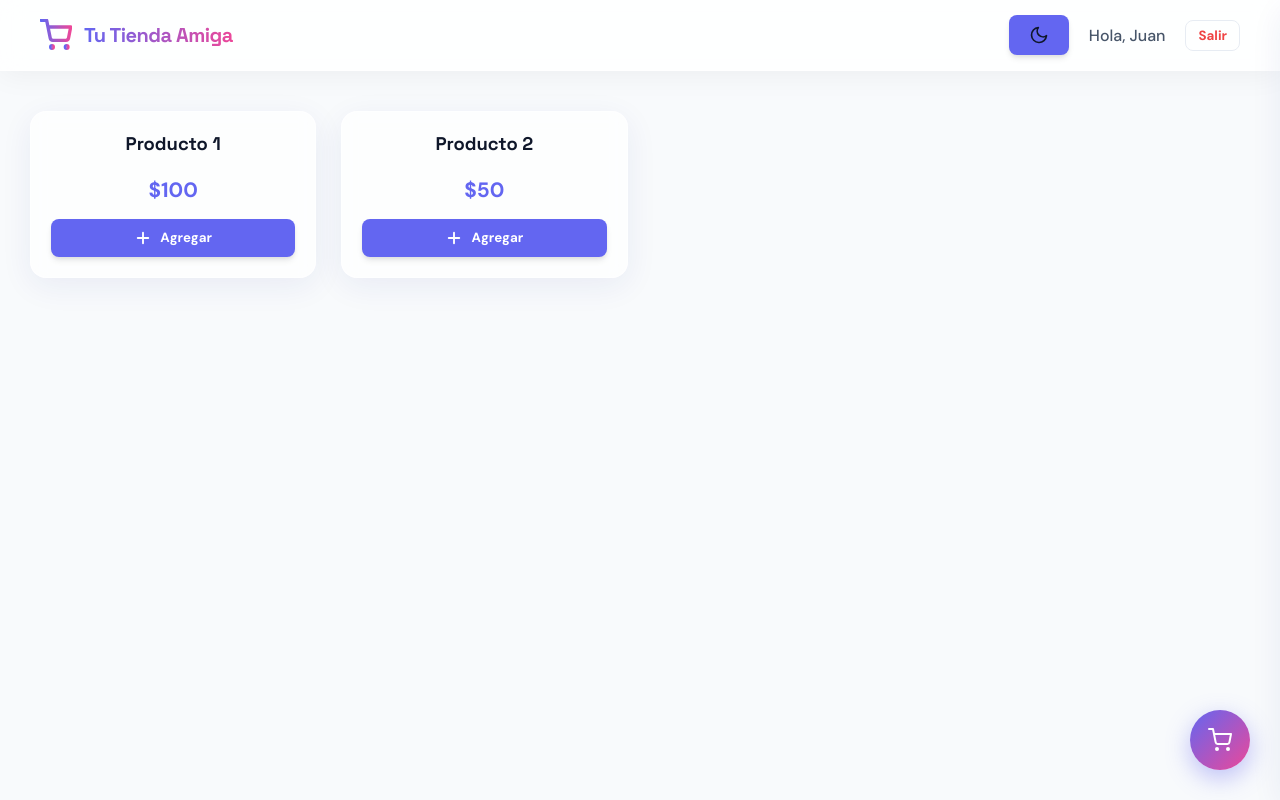
Test: App Component - Gestión del Carrito › Gestión del Carrito › ✓ HAPPY PATH: calcular total correctamente
The image size is (1280, 800).
Click the button "Agregar" below "100" at {"x": 173, "y": 238}, box [51,219,295,257]
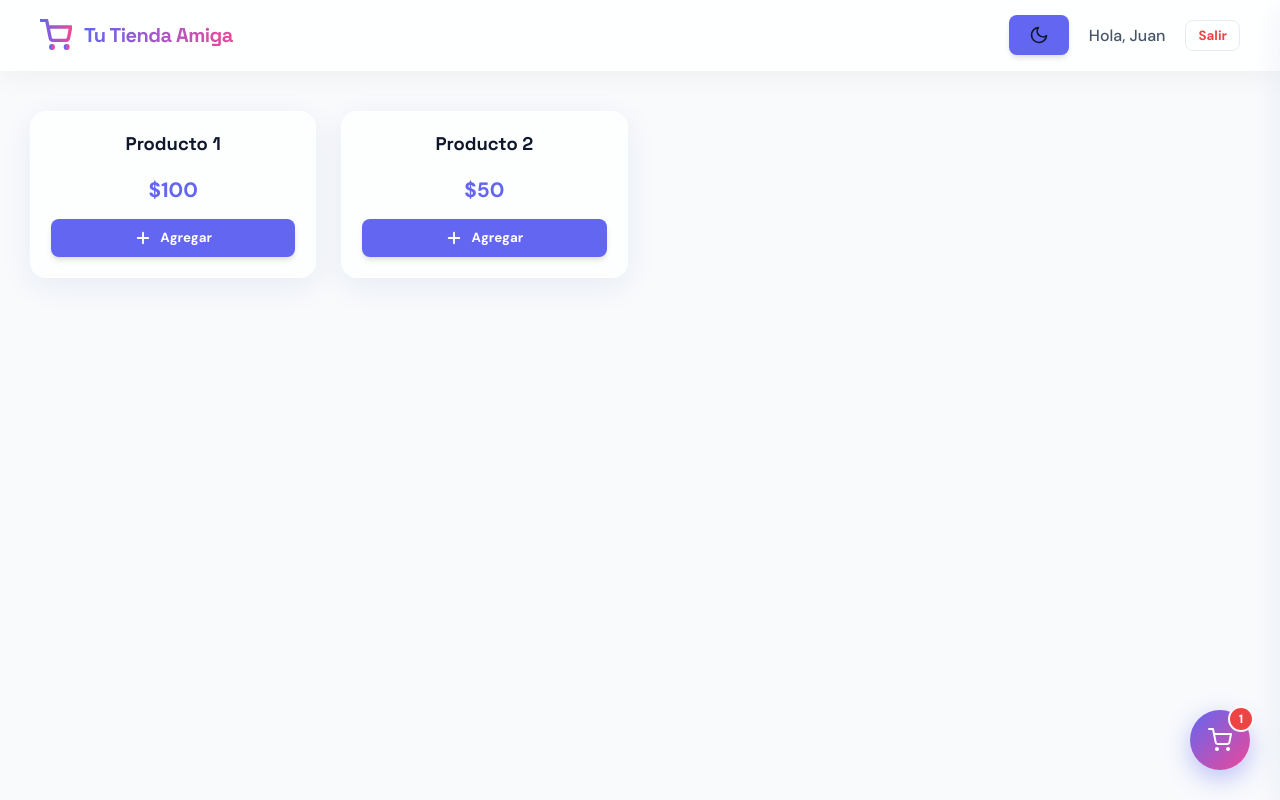
Click the button "Agregar" below "50" at {"x": 484, "y": 238}, box [362,219,607,257]
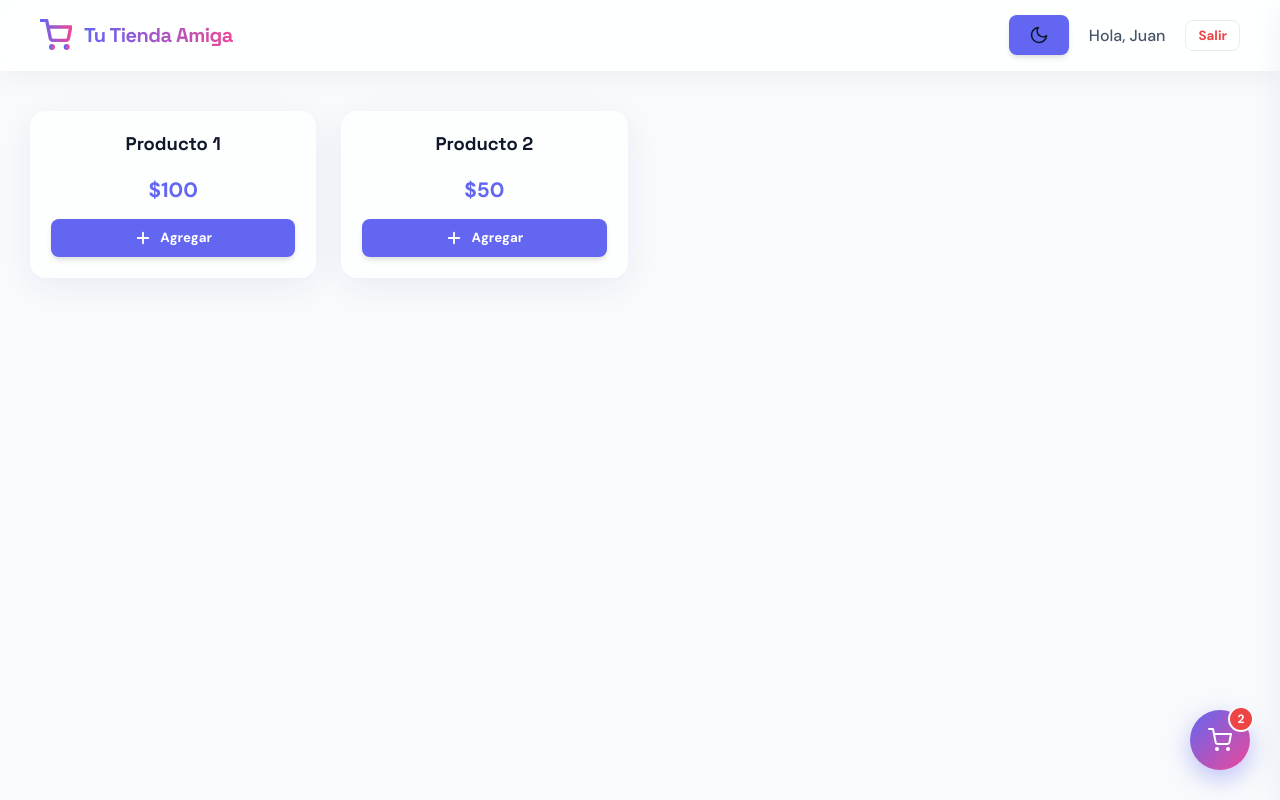
Result: the text with class "cart-badge" reads "2" at [1238,711,1244,727]
